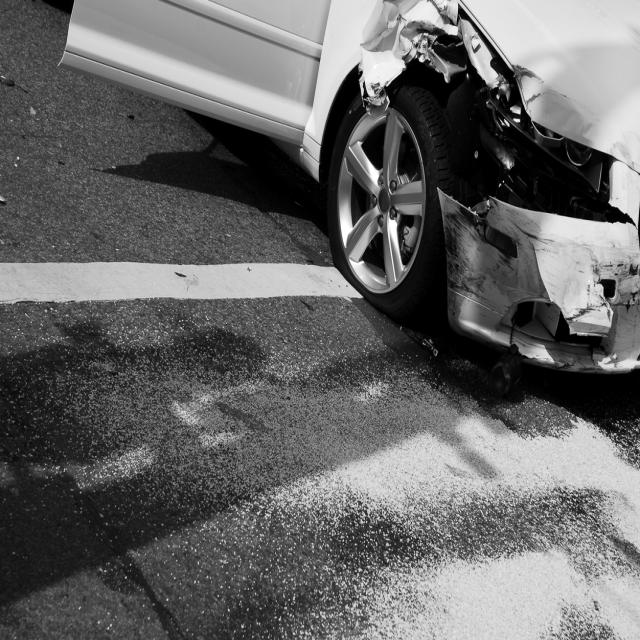crush: (358, 0, 640, 374)
